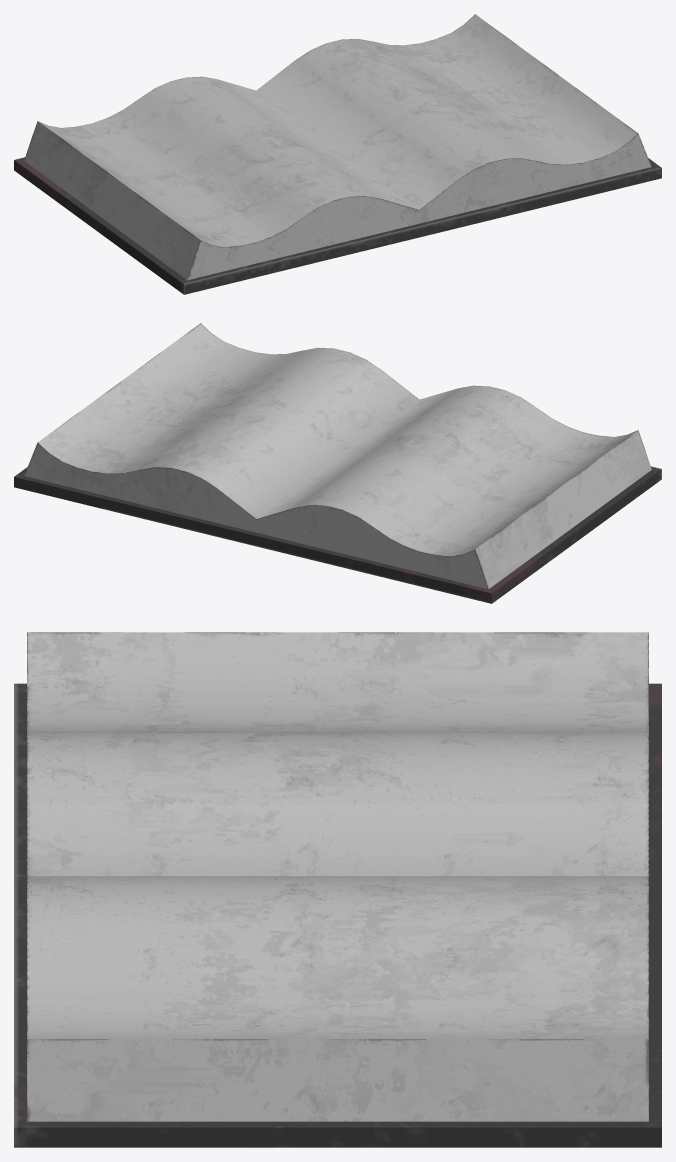
Rendered from pocket_book.fbx.
3 views of the same model, one above another, from view 1: azimuth 30°, elevation 25°; view 2: azimuth 150°, elevation 25°; view 3: azimuth 270°, elevation 25° (orthographic). The views are drawn at different scales.
Visible parts, largest first — view 1: pocket_book1; view 2: pocket_book1; view 3: pocket_book1.
Part boxes in pixels (x1=…): pocket_book1: x1=14, y1=14, x2=661, y2=294; pocket_book1: x1=14, y1=323, x2=661, y2=603; pocket_book1: x1=14, y1=632, x2=661, y2=1147.
Bounding box in the file's own units: 24 × 2.6 × 14.8.
Materials: 1 (1 with a texture image).
